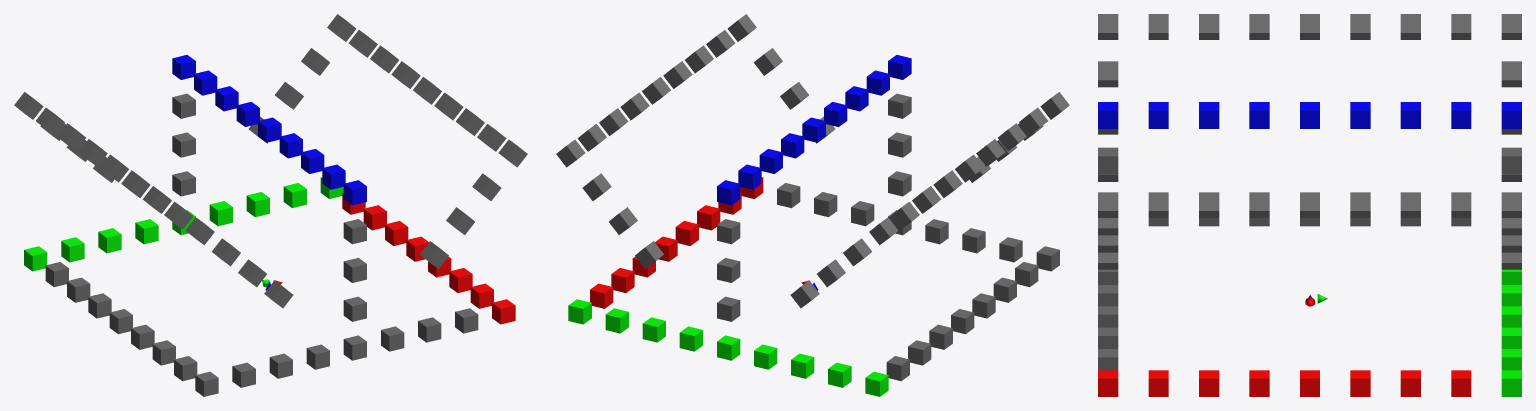
The model's file is Axis.obj.
The picture shows the model from 3 angles, left to right: view 1: azimuth 30°, elevation 25°; view 2: azimuth 150°, elevation 25°; view 3: azimuth 270°, elevation 25°; orthographic projection. The views are drawn at different scales.
Parts seen in each view (by area): view 1: Cube.061_Cube.064, Cube.013_Cube.014, Cube.062_Cube.065, Cube.014_Cube.015, Cube.012_Cube.013, Cube.048_Cube.051, Cube.020_Cube.021, Cube.003_Cube.004, Cube.029_Cube.030, Cube.016_Cube.017, Cube.060_Cube.063, Cube.049_Cube.052 (+30 smaller); view 2: Cube.049_Cube.052, Cube.003_Cube.004, Cube.048_Cube.051, Cube.004_Cube.005, Cube.002_Cube.003, Cube.062_Cube.065, Cube.030_Cube.031, Cube.013_Cube.014, Cube.021_Cube.022, Cube_Cube.001, Cube.061_Cube.064, Cube.050_Cube.053 (+30 smaller); view 3: Cube.060_Cube.063, Cube.050_Cube.053, Cube.059_Cube.062, Cube.058_Cube.061, Cube.057_Cube.060, Cube.056_Cube.059, Cube.054_Cube.057, Cube.053_Cube.056, Cube.052_Cube.055, Cube.051_Cube.054, Cube.012_Cube.013, Cube.011_Cube.012 (+42 smaller).
Boxes of the visible parts, x1,y1,x2,y2 form: Cube.061_Cube.064: [172, 132, 195, 157]; Cube.013_Cube.014: [455, 308, 478, 333]; Cube.062_Cube.065: [172, 171, 195, 196]; Cube.014_Cube.015: [418, 317, 441, 342]; Cube.012_Cube.013: [492, 299, 515, 324]; Cube.048_Cube.051: [343, 296, 366, 321]; Cube.020_Cube.021: [61, 237, 84, 262]; Cube.003_Cube.004: [283, 183, 306, 208]; Cube.029_Cube.030: [195, 371, 218, 396]; Cube.016_Cube.017: [343, 335, 366, 360]; Cube.060_Cube.063: [172, 93, 195, 118]; Cube.049_Cube.052: [343, 258, 366, 282]; Cube.049_Cube.052: [888, 132, 911, 157]; Cube.003_Cube.004: [605, 308, 628, 333]; Cube.048_Cube.051: [888, 171, 911, 196]; Cube.004_Cube.005: [568, 299, 591, 324]; Cube.002_Cube.003: [642, 317, 665, 342]; Cube.062_Cube.065: [717, 296, 740, 321]; Cube.030_Cube.031: [999, 237, 1022, 262]; Cube.013_Cube.014: [777, 183, 800, 208]; Cube.021_Cube.022: [865, 371, 888, 396]; Cube_Cube.001: [717, 335, 740, 360]; Cube.061_Cube.064: [717, 258, 740, 282]; Cube.050_Cube.053: [888, 93, 911, 118]; Cube.060_Cube.063: [1501, 147, 1521, 174]; Cube.050_Cube.053: [1098, 147, 1118, 174]; Cube.059_Cube.062: [1501, 102, 1521, 128]; Cube.058_Cube.061: [1451, 102, 1471, 128]; Cube.057_Cube.060: [1400, 102, 1420, 128]; Cube.056_Cube.059: [1350, 102, 1370, 128]; Cube.054_Cube.057: [1249, 102, 1269, 128]; Cube.053_Cube.056: [1199, 102, 1219, 128]; Cube.052_Cube.055: [1148, 102, 1168, 128]; Cube.051_Cube.054: [1098, 102, 1118, 128]; Cube.012_Cube.013: [1098, 370, 1118, 396]; Cube.011_Cube.012: [1148, 370, 1168, 396].
Size of the model in its own units: 4.5 by 2.25 by 4.2.
